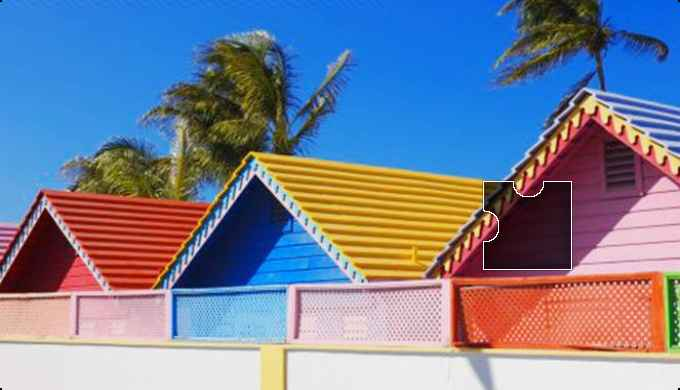gap: (482, 180, 573, 270)
